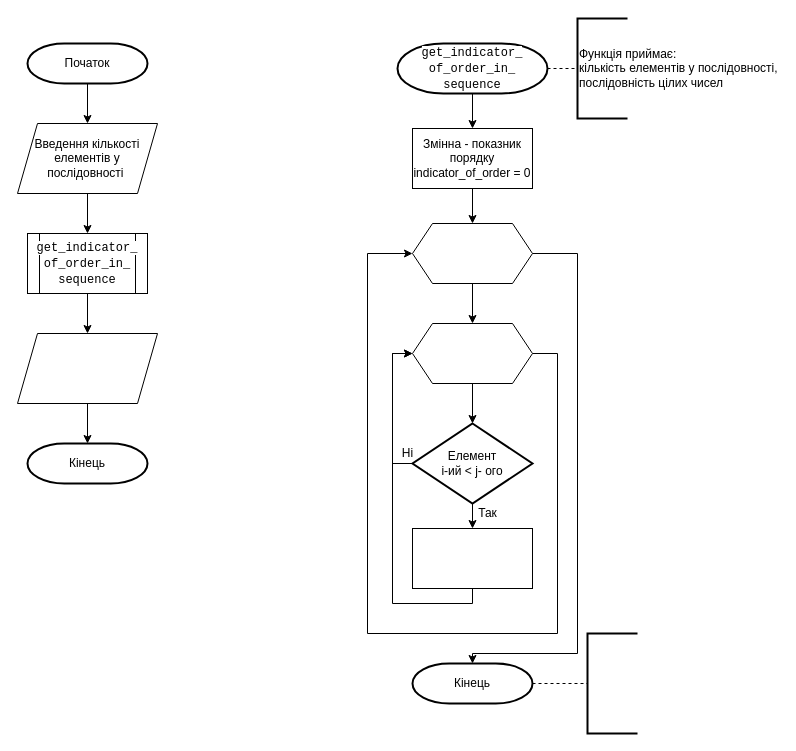
This 796x751 diagram has some shape labels left out. The box of each missing label's shape, as (x1, y1, x2, y2) in pixels:
0 < i < N -1: (412, 222, 532, 284)
0 < j < N: (412, 322, 532, 384)
indicator_of_order = indicator_of_order + 1: (412, 528, 532, 588)
Виведення показнику порядку: (16, 332, 158, 404)
Функція повертає: значення порядку послідовності: (586, 632, 638, 734)
